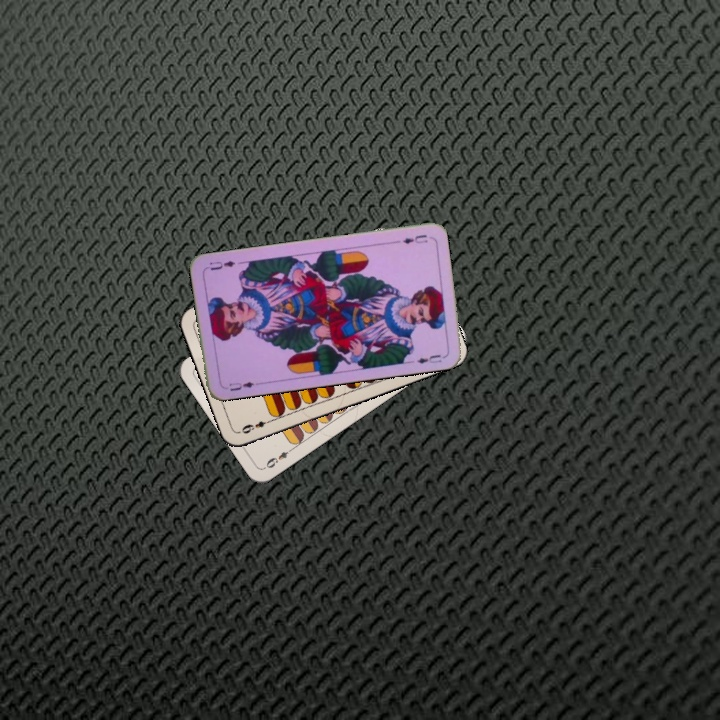E9: (261, 444, 297, 471), (237, 415, 275, 436)
EU: (225, 377, 261, 393), (399, 230, 430, 246)
